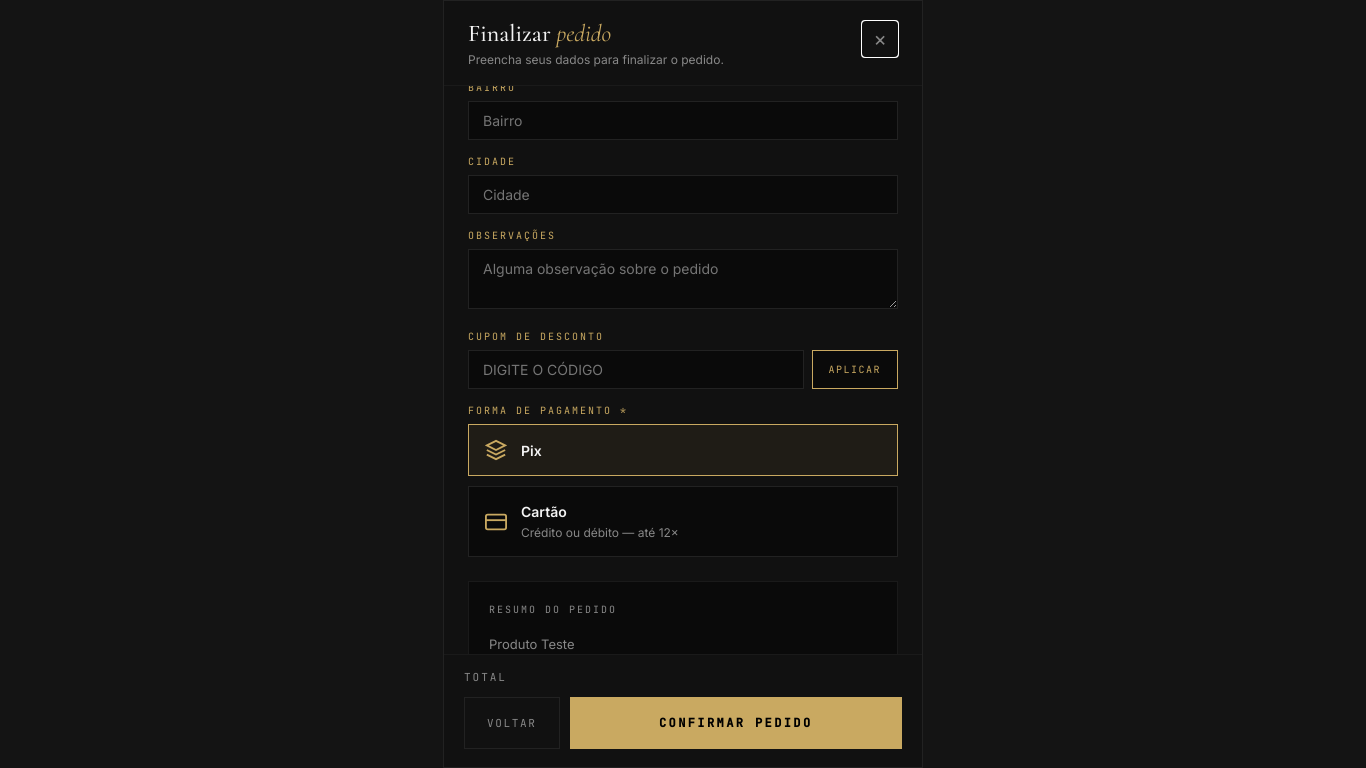
Test: CheckoutModal › recusa cupom que nao existe no banco
(page scrolled)
Type "NAOEXISTE" into the field labelled "Cupom de desconto". click: point(636, 370)
box: [468,350,804,389]
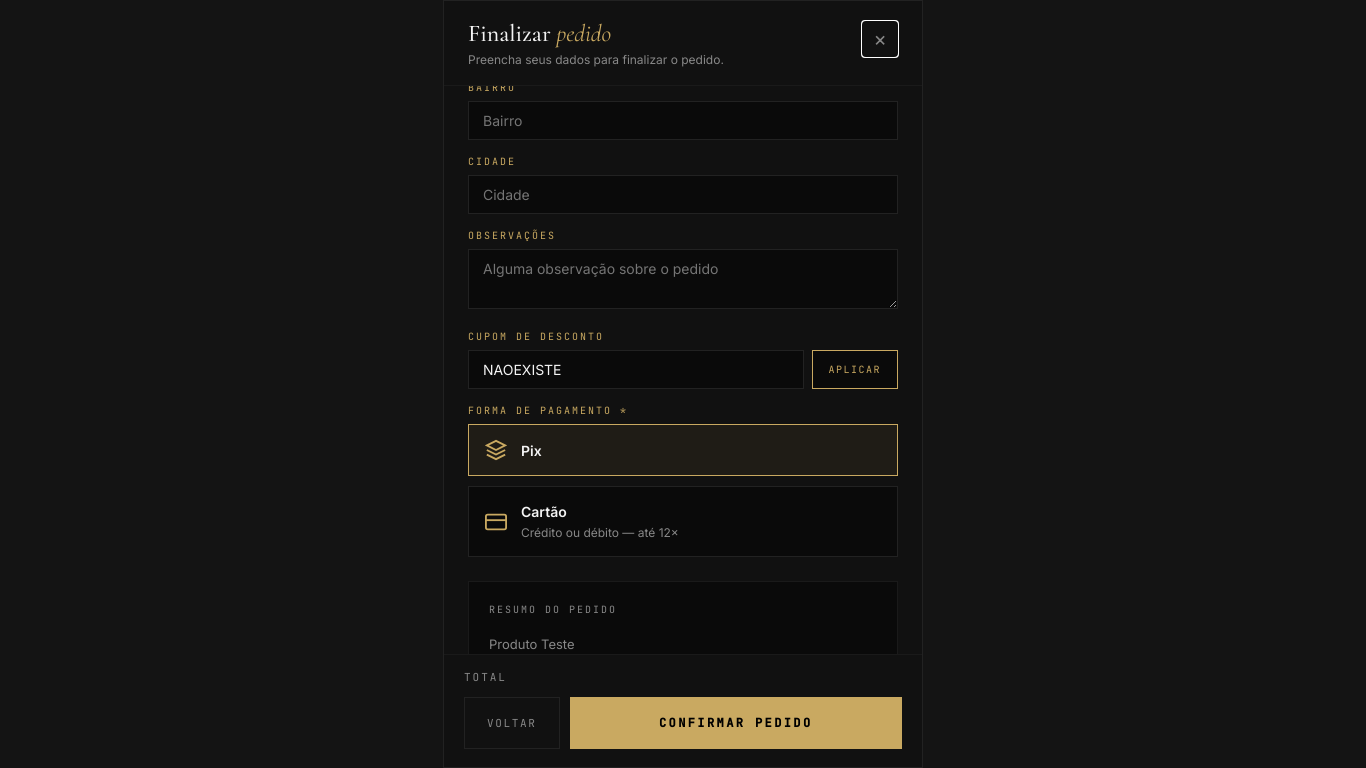
Click the button "APLICAR". click: point(855, 370)
box: [812,350,898,389]
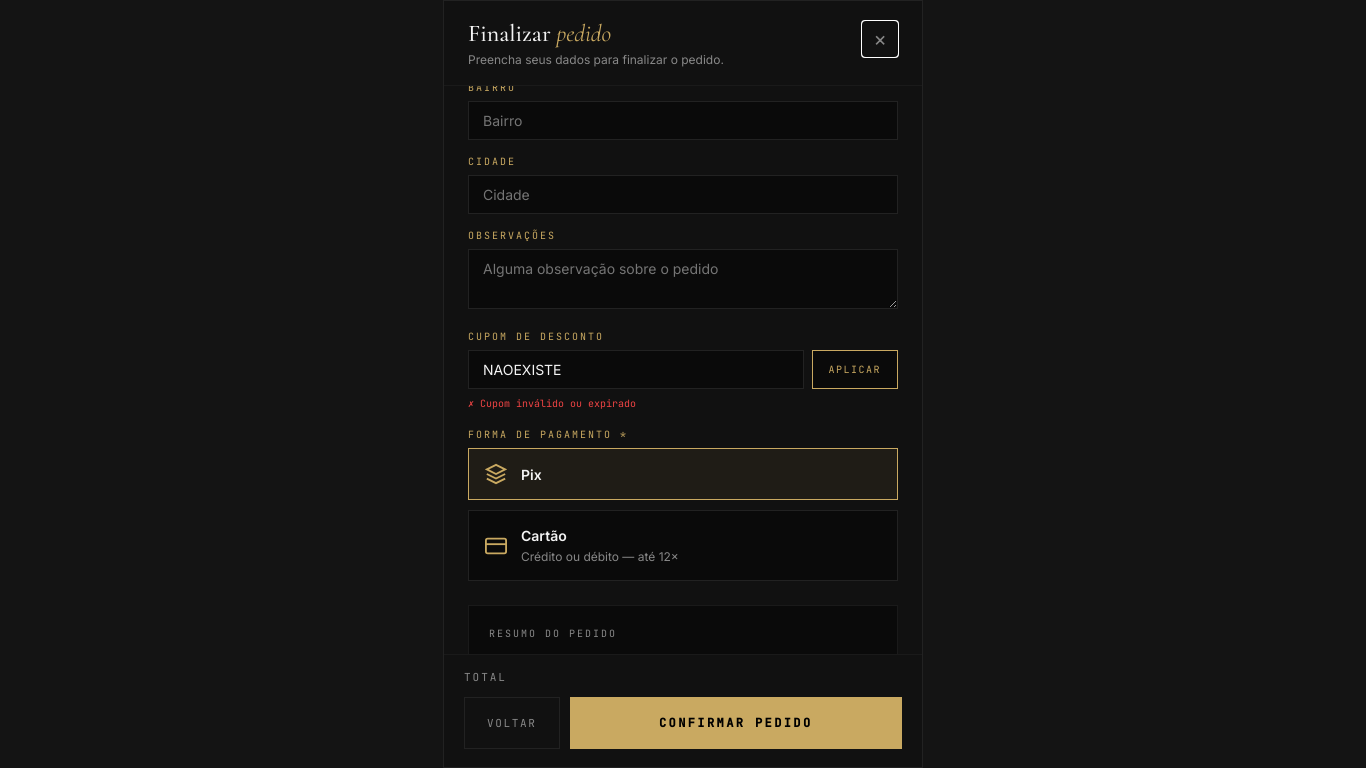
Now the text "✗ Cupom inválido ou expirado" is shown, box [468,397,636,410]
